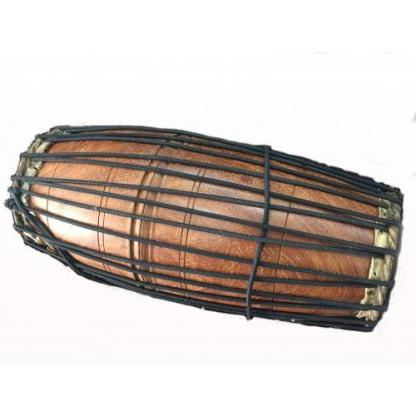Mridangam: (5, 117, 413, 352)
